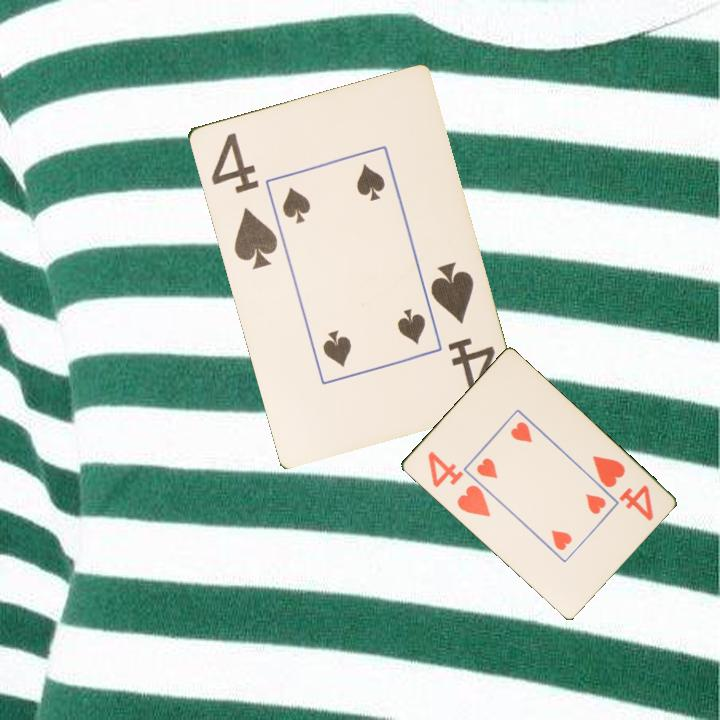4h: (424, 448, 493, 520), (588, 452, 656, 524)
4s: (207, 129, 280, 272), (426, 258, 498, 400)
